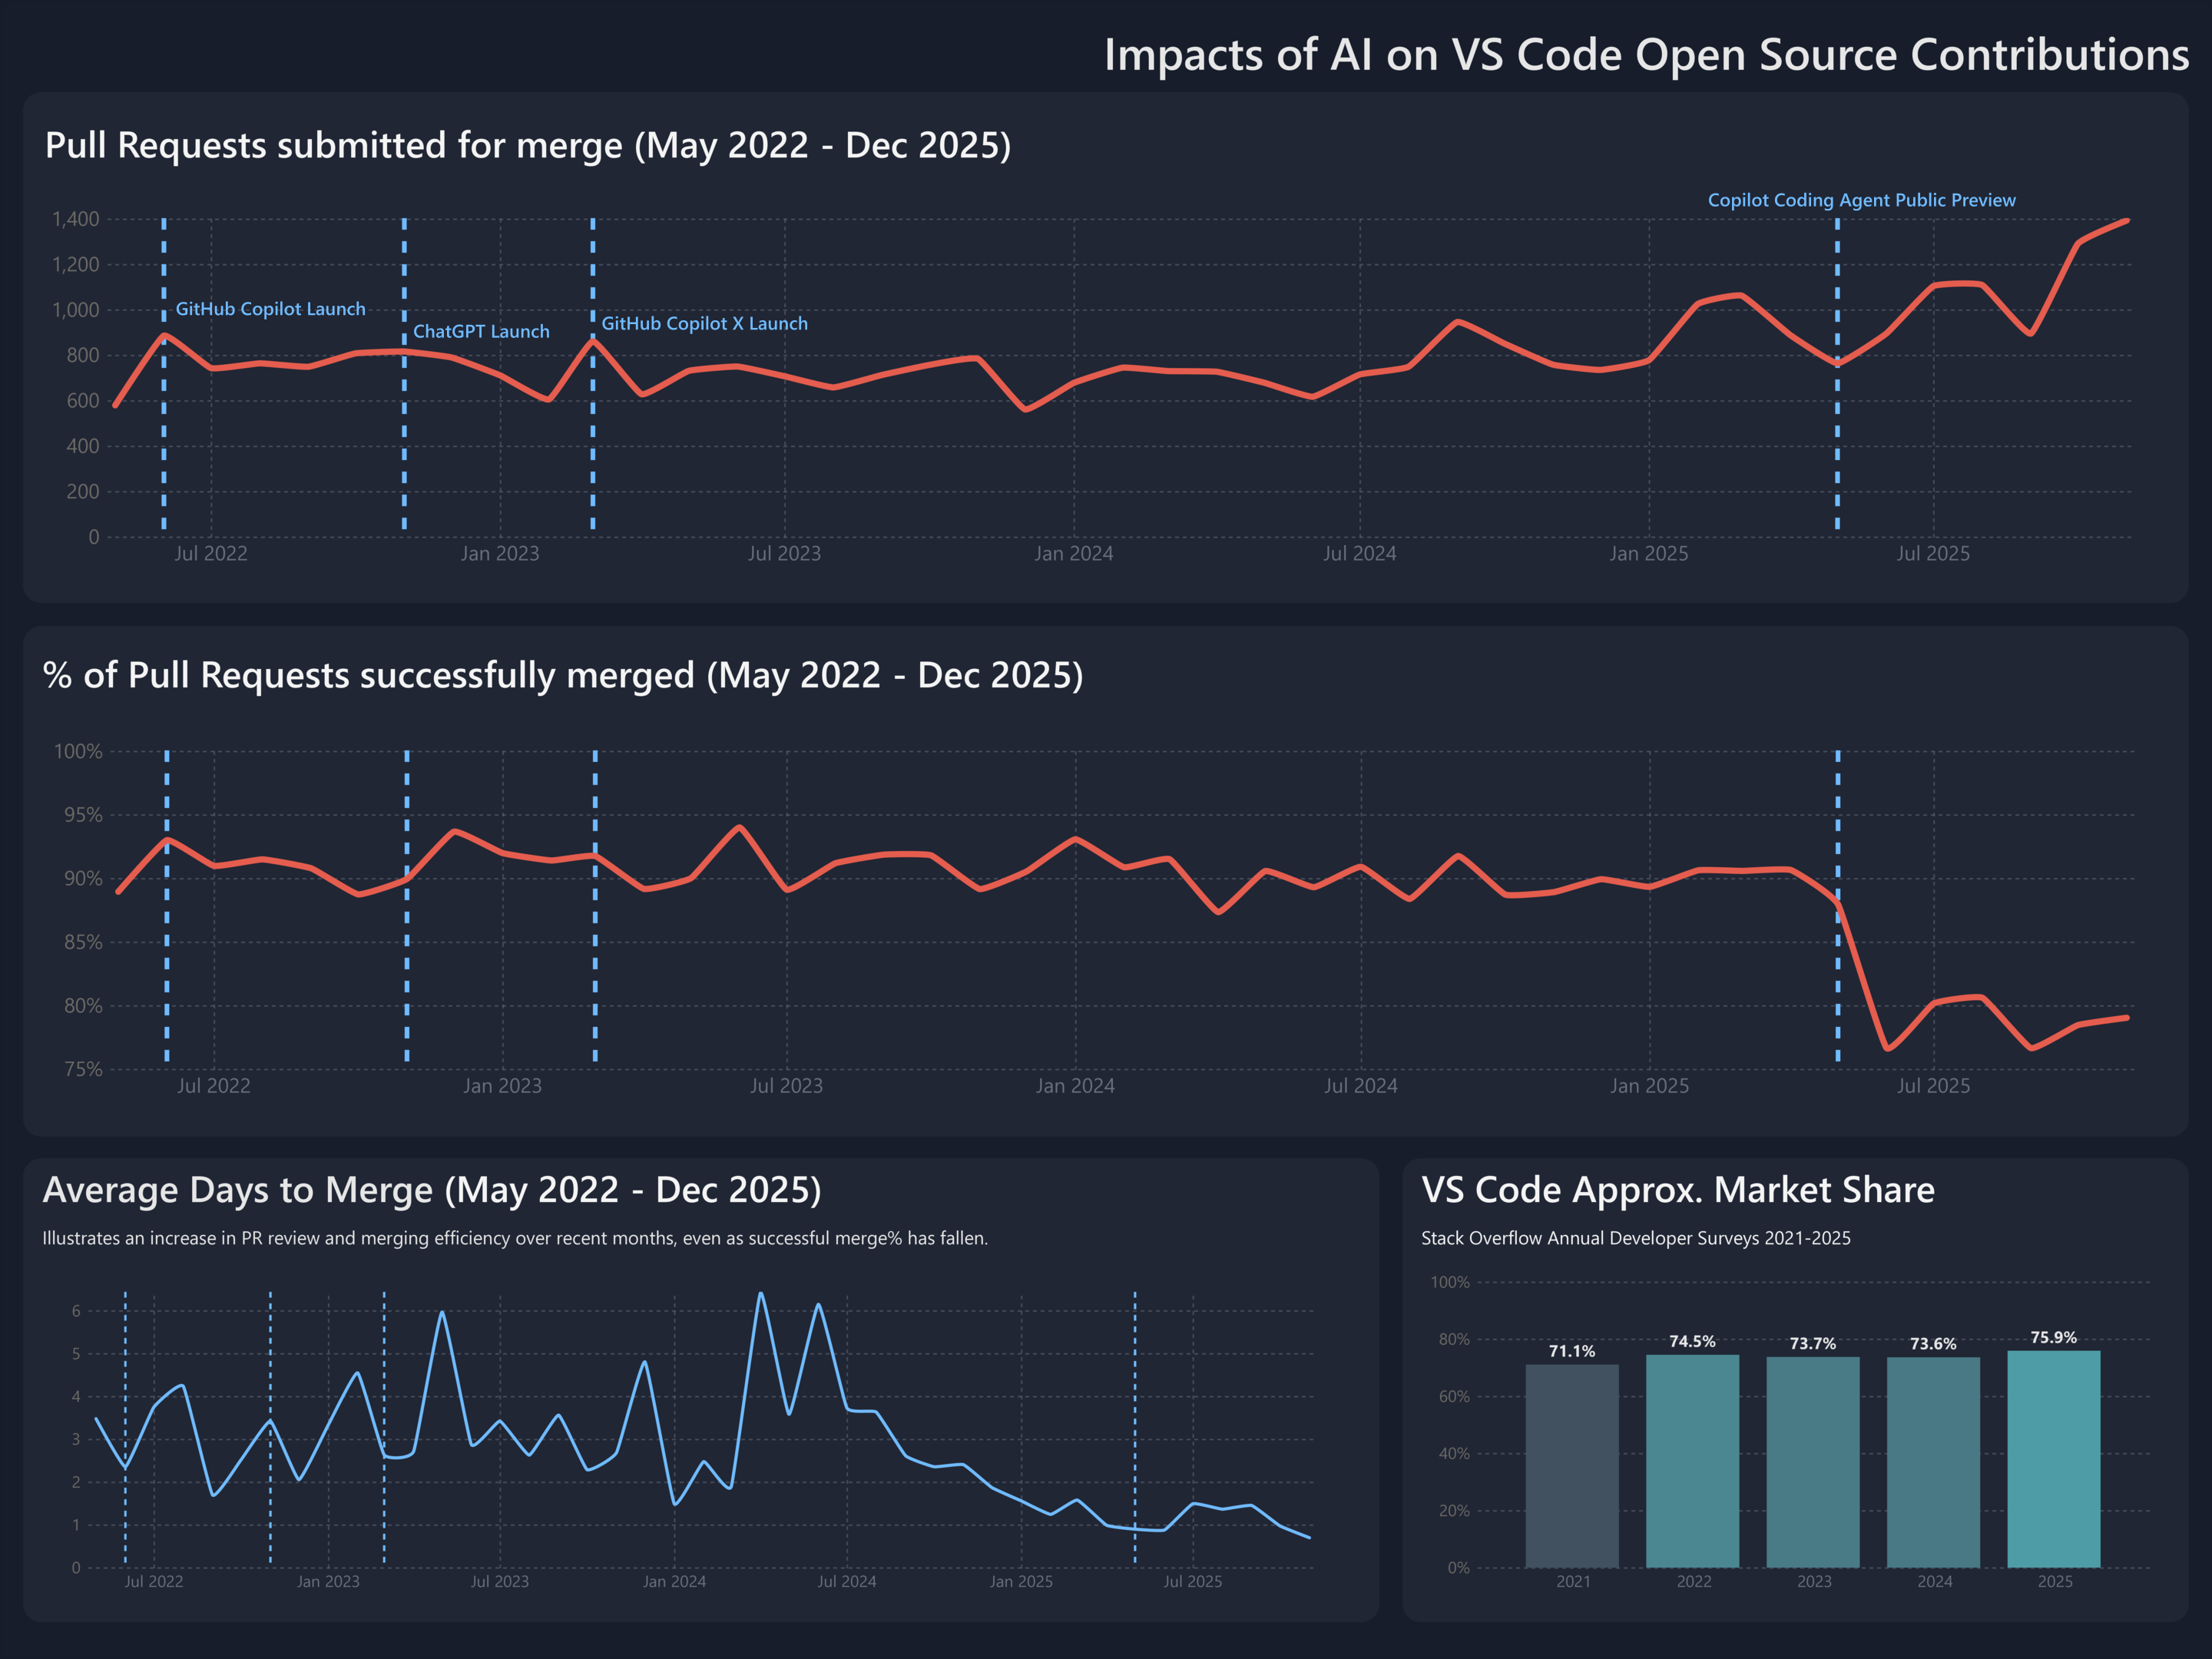

What the dashboard file says about the page in this screenshot:
{"tool":"powerbi","page":{"name":"Page 1","canvas":[2880,2160],"ordinal":0},"visuals":[{"type":"shape","box":[30,815,2820,665],"z":0},{"type":"shape","box":[1826,1508,1024,604],"z":1000},{"type":"lineChart","fields":{"Category":["Date Table.Month Plot"],"Y":["vscode_prs.Merged%"]},"box":[53.3,943.3,2776.7,510],"z":2000},{"type":"shape","box":[30,120,2820,665],"z":3000},{"type":"shape","box":[30,1508,1766,604],"z":4000},{"type":"textbox","box":[50,837.5,2805,87.5],"z":5000},{"type":"columnChart","fields":{"Category":["VSCode Usage (Stack Overflow De.Year Date.Variation.Date Hierarchy.Year"],"Y":["Sum(VSCode Usage (Stack Overflow De.Usage)"]},"box":[1846,1638,972,456],"z":6000},{"type":"lineChart","fields":{"Category":["Date Table.Month Plot"],"Y":["Avg(vscode_prs.days to merge)"]},"box":[60,1658,1700,436],"z":7000},{"type":"lineChart","fields":{"Category":["Date Table.Month Plot"],"Y":["CountNonNull(vscode_prs.user.type)"]},"box":[50,250,2780,510],"z":8000},{"type":"textbox","box":[1846,1508,886,130],"z":9000},{"type":"textbox","box":[52.5,147.5,2780,102.5],"z":10000},{"type":"textbox","box":[50,1508,1400,130],"z":11000},{"type":"textbox","box":[610,23.3,2246.7,146.7],"z":12000}]}

Visuals, with their boxes in screenshot pixels (x1, y1, x2, y2), scaled from the page's 2880x2160 canvas onto the 2212x1659 screenshot:
shape: [23,626,2189,1137]
shape: [1402,1158,2189,1622]
lineChart - Date Table.Month Plot x vscode_prs.Merged%: [41,724,2174,1116]
shape: [23,92,2189,603]
shape: [23,1158,1379,1622]
textbox: [38,644,2193,710]
columnChart - VSCode Usage (Stack Overflow De.Year Date.Variation.Date Hierarchy.Year x Sum(VSCode Usage (Stack Overflow De.Usage): [1418,1258,2164,1608]
lineChart - Date Table.Month Plot x Avg(vscode_prs.days to merge): [46,1273,1352,1608]
lineChart - Date Table.Month Plot x CountNonNull(vscode_prs.user.type): [38,192,2174,584]
textbox: [1418,1158,2098,1258]
textbox: [40,114,2175,192]
textbox: [38,1158,1114,1258]
textbox: [469,18,2194,131]
